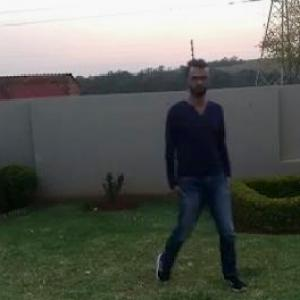follow: (148, 57, 225, 292)
